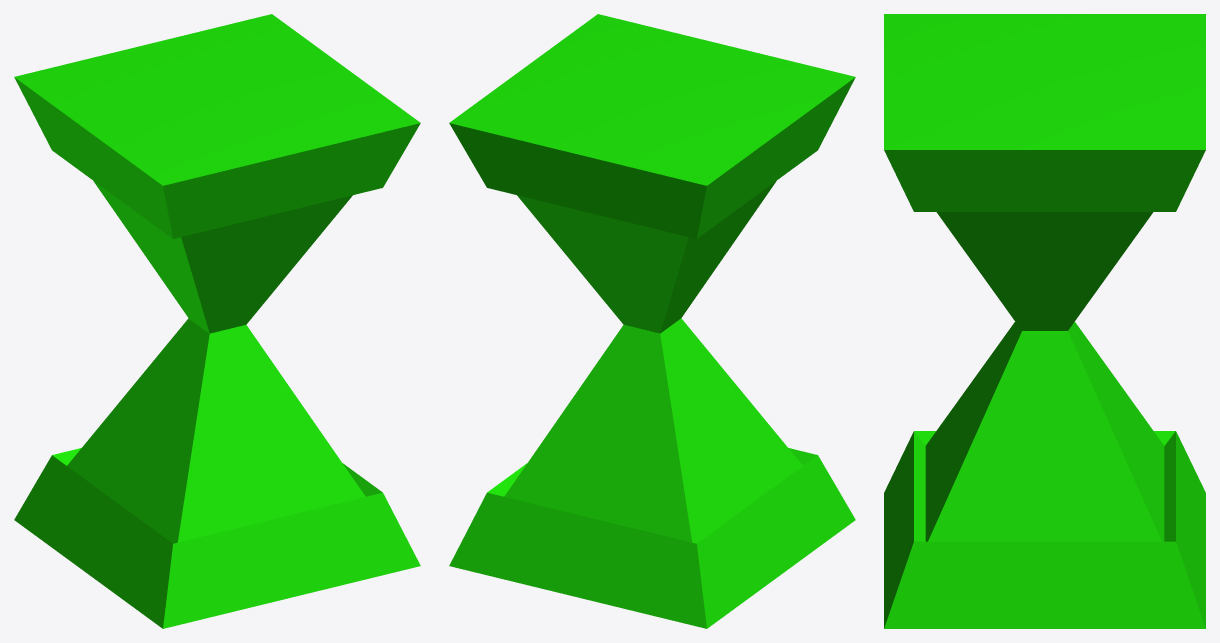
File: PowerUp3.fbx
3 views of the same model, side by side, from view 1: azimuth 30°, elevation 25°; view 2: azimuth 150°, elevation 25°; view 3: azimuth 270°, elevation 25° (orthographic). The views are drawn at different scales.
Visible parts, largest first — view 1: Pyramid001; view 2: Pyramid001; view 3: Pyramid001.
Part boxes in pixels (bbox=[...]): Pyramid001: bbox=[14, 14, 420, 628]; Pyramid001: bbox=[449, 14, 855, 628]; Pyramid001: bbox=[884, 14, 1205, 628].
Size of the model in its own units: 16.17 by 27.41 by 16.17.
